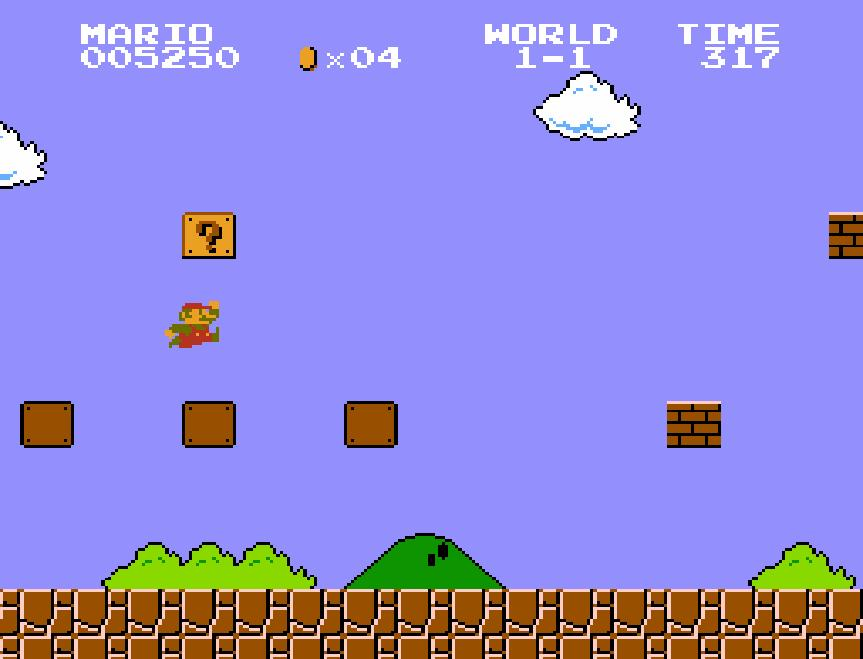little_mario: (162, 298, 220, 348)
